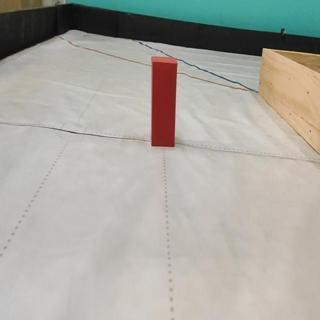redbox: (149, 55, 178, 147)
